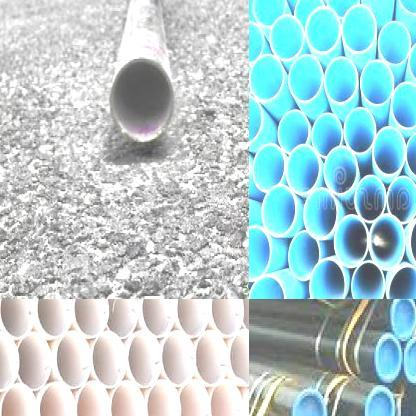pipe: (249, 312, 407, 381), (110, 56, 174, 144), (368, 214, 406, 271), (56, 331, 92, 389), (16, 332, 52, 390), (92, 331, 127, 388), (161, 330, 196, 386), (128, 331, 162, 388), (261, 184, 297, 237), (334, 214, 368, 268), (195, 330, 228, 385), (304, 187, 338, 240), (286, 143, 320, 195), (341, 5, 377, 54), (305, 6, 341, 54), (372, 126, 406, 176), (249, 54, 284, 102), (288, 54, 323, 102), (324, 146, 358, 195), (252, 143, 285, 193), (269, 15, 304, 62), (288, 230, 320, 281), (324, 57, 358, 104), (360, 60, 394, 106), (344, 107, 376, 155), (378, 21, 412, 66), (309, 258, 346, 299), (354, 176, 386, 223), (278, 109, 310, 155), (387, 176, 416, 224), (312, 112, 342, 158), (36, 299, 72, 337), (0, 299, 35, 338), (74, 299, 109, 338), (140, 299, 174, 338), (38, 381, 75, 416), (351, 261, 385, 299), (176, 299, 209, 338), (210, 299, 243, 338), (146, 380, 181, 416), (109, 381, 145, 416), (210, 379, 244, 416), (106, 299, 138, 338), (391, 81, 416, 130), (0, 383, 37, 416), (249, 226, 271, 281), (75, 381, 109, 416), (179, 380, 211, 416), (229, 329, 249, 386), (0, 331, 19, 391), (294, 0, 325, 34), (388, 265, 416, 299), (249, 275, 286, 299), (252, 0, 286, 26), (249, 95, 263, 145), (326, 0, 360, 19), (249, 21, 264, 63), (406, 131, 416, 179), (407, 39, 416, 85), (397, 0, 416, 15), (249, 0, 259, 23)
